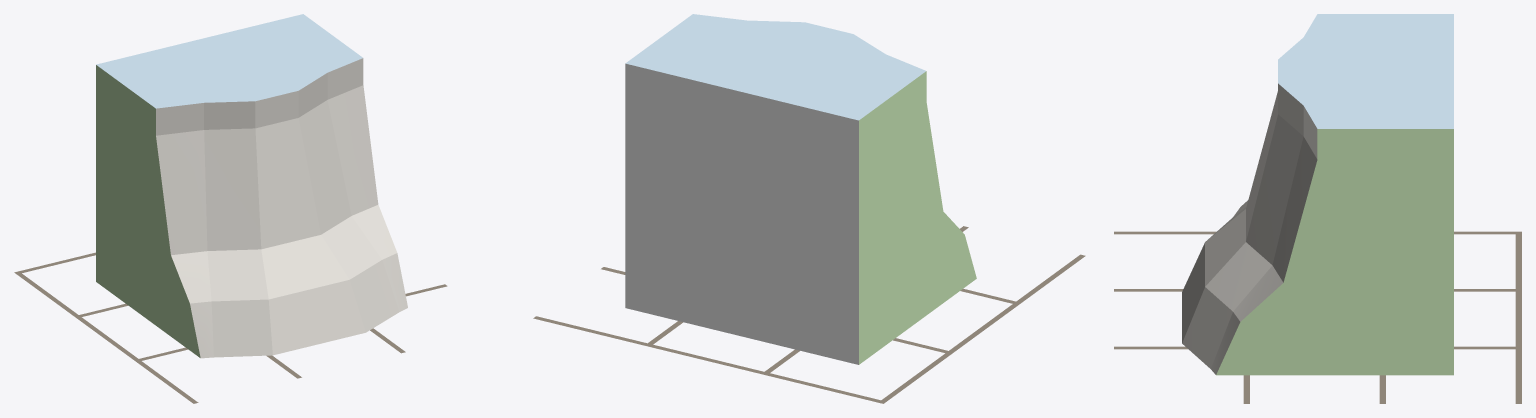
Rendered from Wall_Straight_Deformed_Convex_2x2_Base.glb.
The picture shows the model from 3 angles, left to right: view 1: azimuth 30°, elevation 25°; view 2: azimuth 150°, elevation 25°; view 3: azimuth 270°, elevation 25°; orthographic projection. The views are drawn at different scales.
Parts seen in each view (by area): view 1: Wall_Straight_Deformed_Convex_2x2_Base, Floor; view 2: Wall_Straight_Deformed_Convex_2x2_Base, Floor; view 3: Wall_Straight_Deformed_Convex_2x2_Base, Floor.
Boxes of the visible parts, x1=… form: Wall_Straight_Deformed_Convex_2x2_Base: x1=96, y1=14, x2=407, y2=358; Floor: x1=14, y1=252, x2=447, y2=403; Wall_Straight_Deformed_Convex_2x2_Base: x1=625, y1=14, x2=976, y2=364; Floor: x1=533, y1=226, x2=1085, y2=403; Wall_Straight_Deformed_Convex_2x2_Base: x1=1182, y1=14, x2=1453, y2=375; Floor: x1=1114, y1=231, x2=1521, y2=403.
Bounding box in the file's own units: 300 × 200 × 300.
5 materials, 1 textured.
